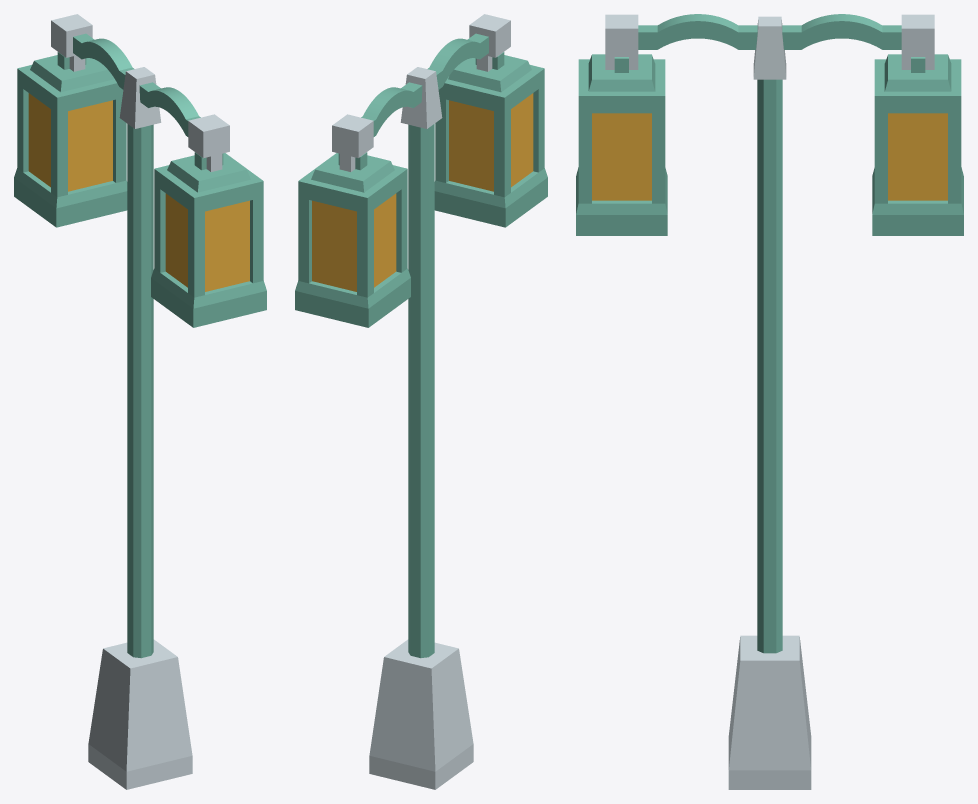
File: lanternDouble.fbx
The picture shows the model from 3 angles, left to right: view 1: azimuth 30°, elevation 25°; view 2: azimuth 150°, elevation 25°; view 3: azimuth 270°, elevation 25°; orthographic projection. The views are drawn at different scales.
Parts seen in each view (by area): view 1: lanternDouble; view 2: lanternDouble; view 3: lanternDouble.
Part boxes in pixels (x1=…): lanternDouble: x1=14, y1=14, x2=266, y2=789; lanternDouble: x1=295, y1=14, x2=547, y2=789; lanternDouble: x1=576, y1=14, x2=963, y2=789.
Size of the model in its own units: 1.46 by 13.26 by 6.17.
